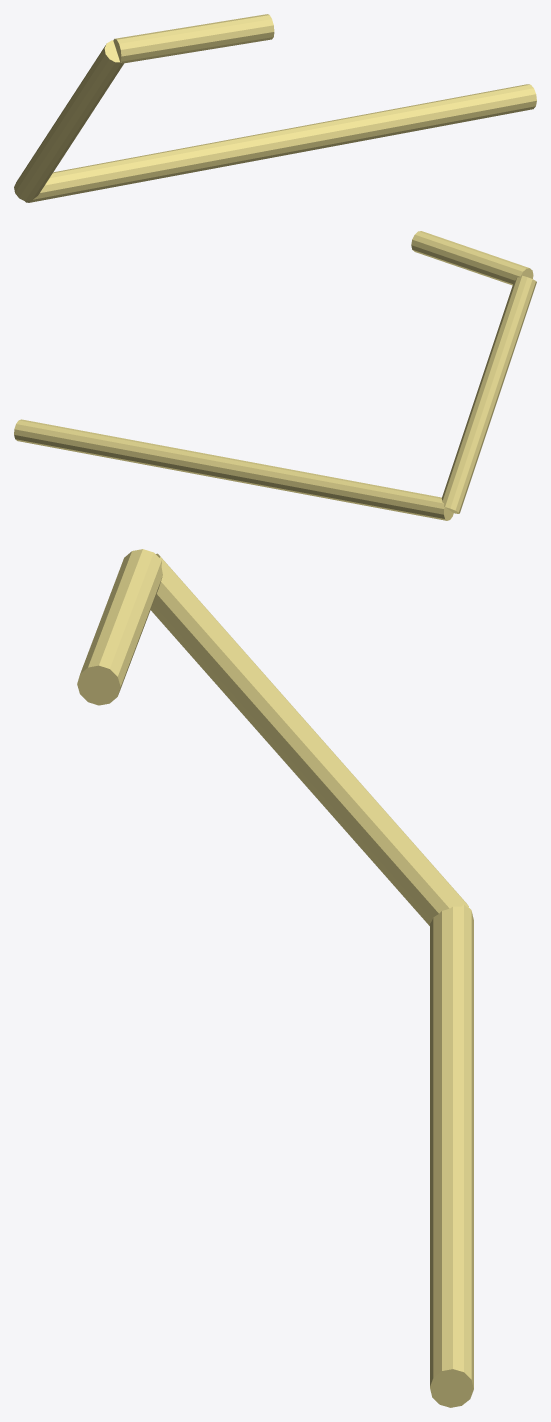
File: ntc-harness.glb
3 renders of one model, top to bottom at view 1: azimuth 30°, elevation 25°; view 2: azimuth 150°, elevation 25°; view 3: azimuth 270°, elevation 25°, orthographic. The views are drawn at different scales.
Parts seen in each view (by area): view 1: ntc-harness; view 2: ntc-harness; view 3: ntc-harness.
Part boxes in pixels (x1,y1,x2,y2): ntc-harness: [14, 14, 536, 202]; ntc-harness: [14, 231, 536, 520]; ntc-harness: [77, 549, 473, 1407].
Size of the model in its own units: 18.42 by 8.8 by 7.19.
